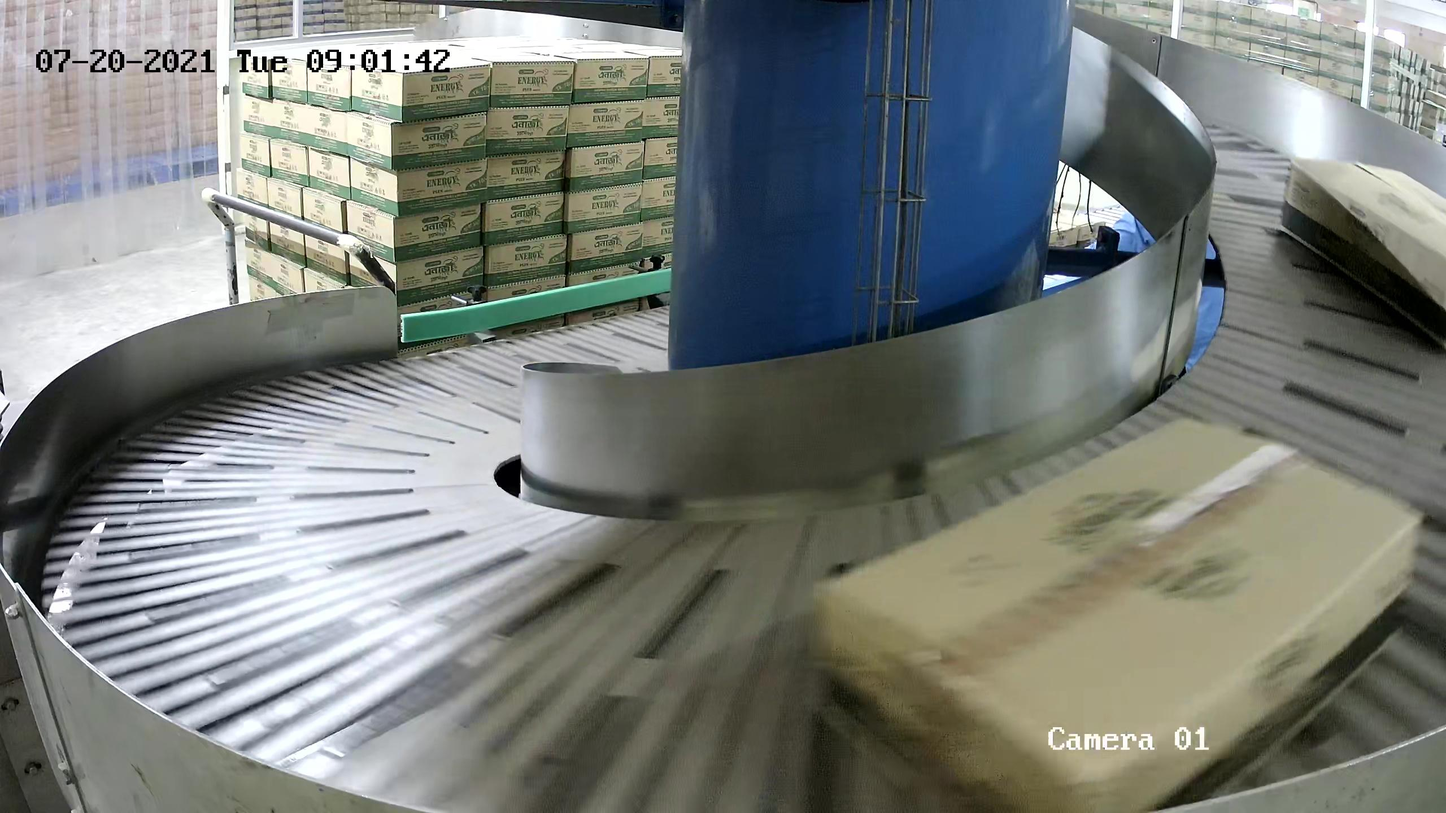Box: (809, 407, 1430, 813), (1277, 154, 1446, 355)
